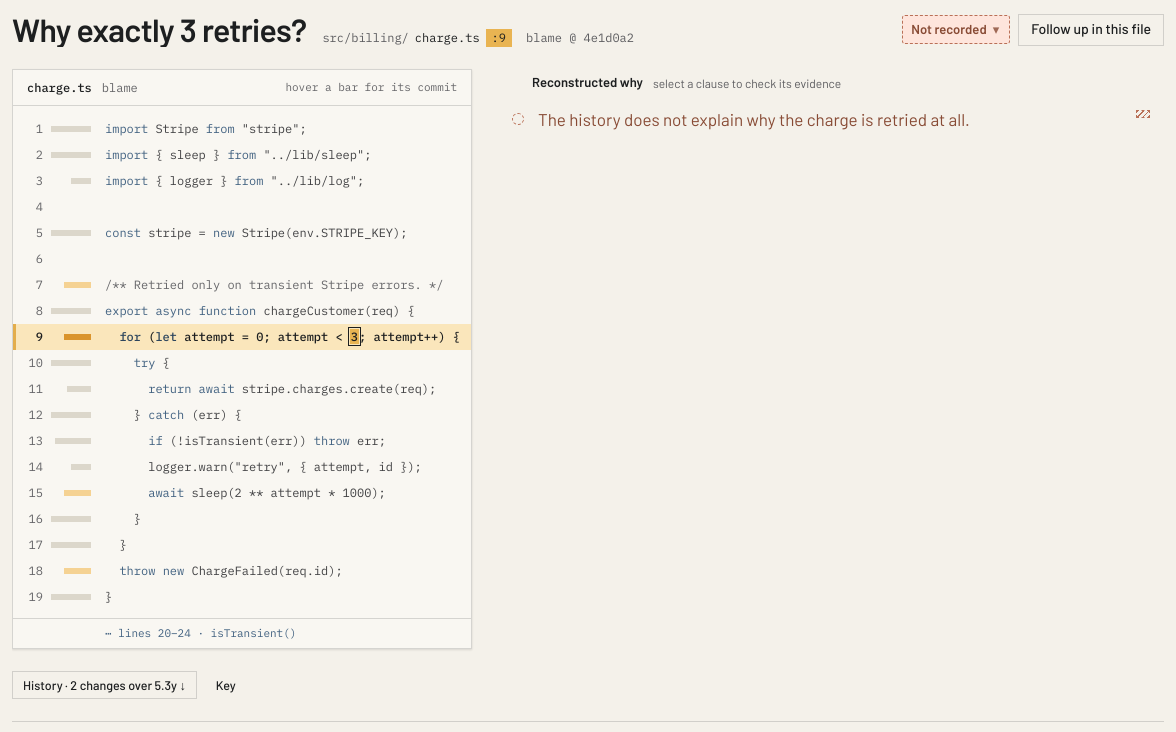
Test case: LineInvestigation — honesty states › renders a whole-answer abstention as one silent clause whose evidence is the silence
The width and height of the screenshot is (1176, 732).
Check: the button "Not recorded ▾" is shown, box [902,15,1010,44]
Click the 3rd button. click: [834, 123]
box: [504,101,1164,146]
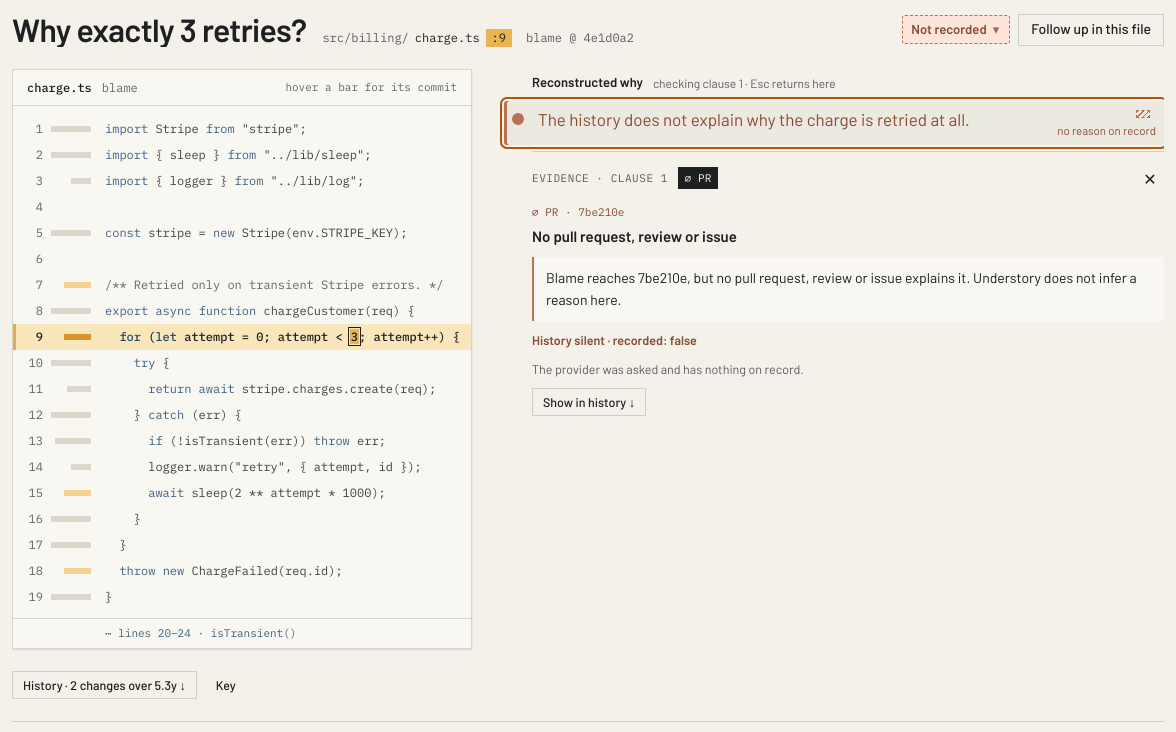
Check: the text "History silent · recorded: false" is shown, box [532,332,697,348]
